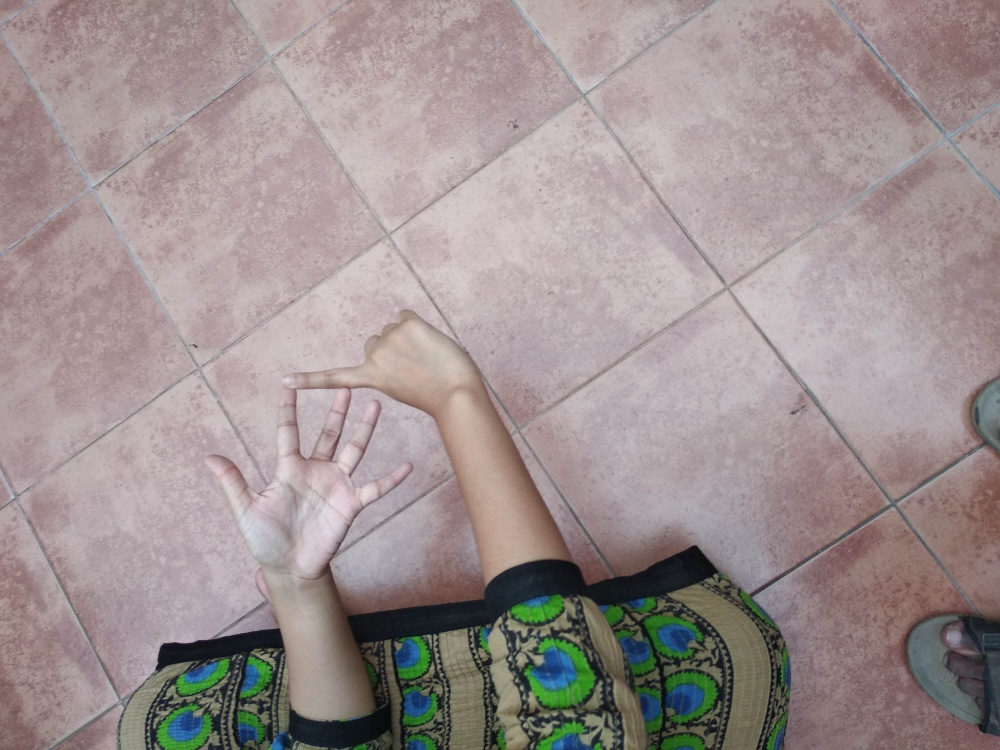o: (208, 325, 502, 545)
